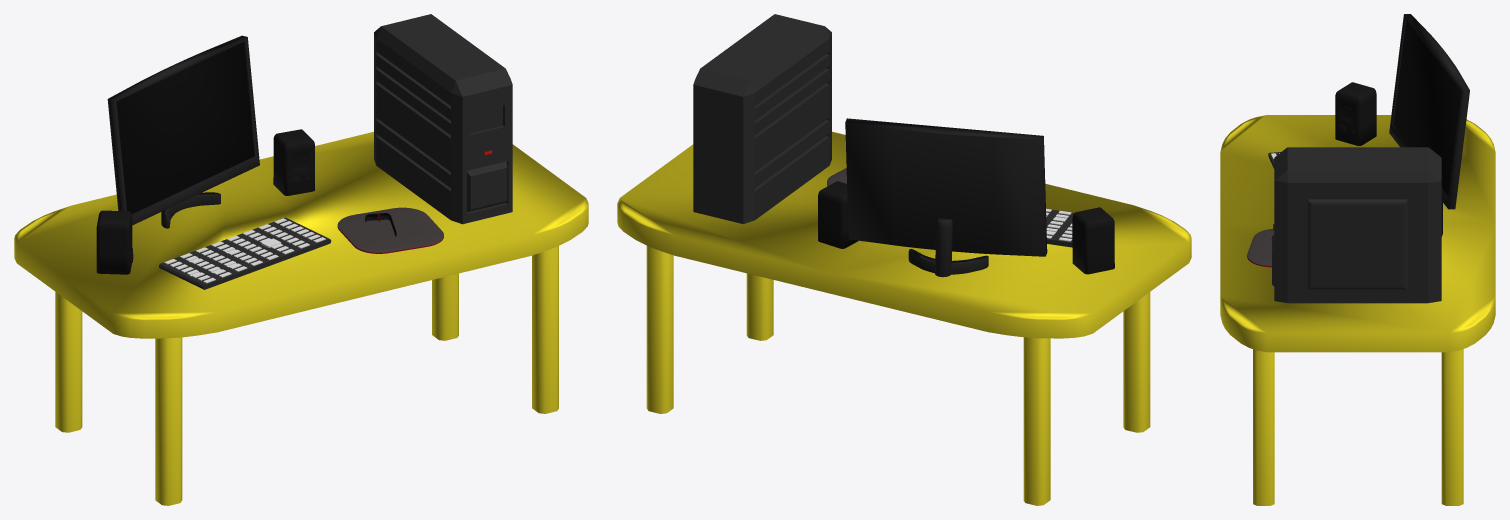
File: Rabochiy_stol_2.fbx
3 views of the same model, side by side, from view 1: azimuth 30°, elevation 25°; view 2: azimuth 150°, elevation 25°; view 3: azimuth 270°, elevation 25° (orthographic). The views are drawn at different scales.
Parts seen in each view (by area): view 1: Стол, Системник, Монитор, Клавиатура, Коврик, Колонка 2, Колонка 1; view 2: Стол, Монитор, Системник, Колонка 1, Колонка 2, Клавиатура; view 3: Стол, Системник, Монитор, Колонка 1, Коврик.
Boxes of the visible parts, x1,y1,x2,y2 form: Стол: [14, 131, 588, 505]; Системник: [374, 14, 512, 224]; Монитор: [107, 35, 259, 228]; Клавиатура: [159, 217, 331, 289]; Коврик: [337, 207, 443, 253]; Колонка 2: [273, 129, 314, 195]; Колонка 1: [96, 210, 133, 274]; Стол: [617, 131, 1191, 505]; Монитор: [845, 118, 1047, 277]; Системник: [693, 14, 831, 224]; Колонка 1: [1072, 207, 1114, 274]; Колонка 2: [818, 181, 858, 248]; Клавиатура: [1046, 208, 1073, 247]; Стол: [1220, 115, 1495, 505]; Системник: [1272, 147, 1441, 303]; Монитор: [1389, 14, 1469, 209]; Колонка 1: [1335, 82, 1376, 145]; Коврик: [1247, 229, 1274, 267].
Bounding box in the file's own units: 633 × 436 × 337.
